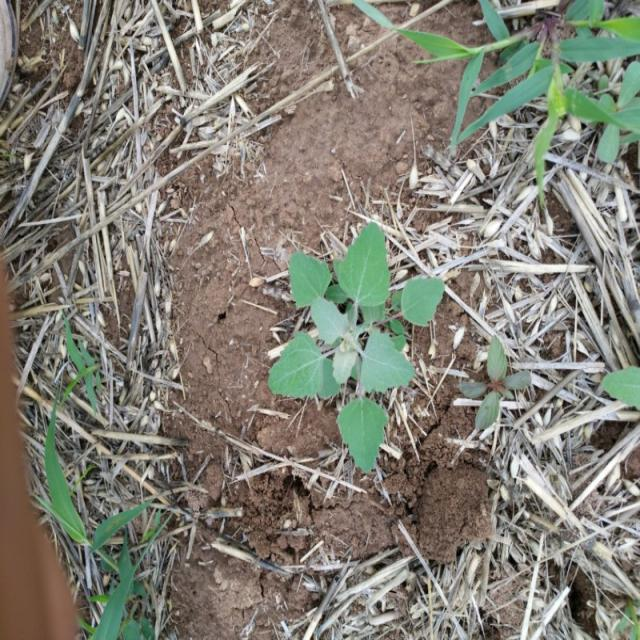goosefoots: (266, 215, 452, 468)
